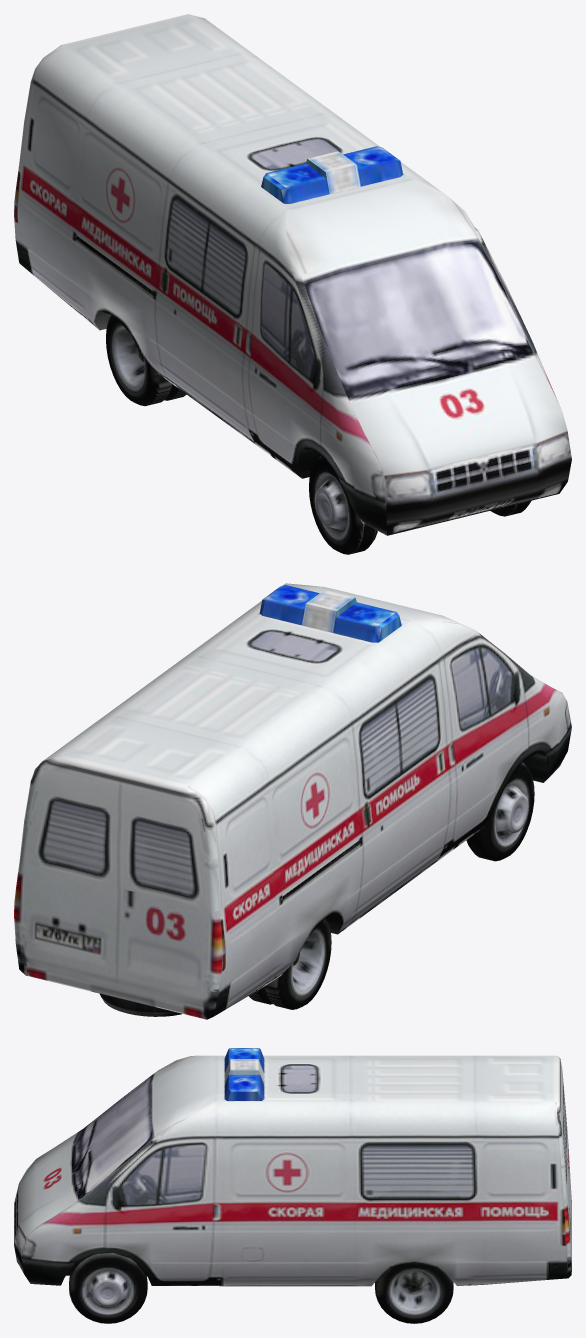
File: ambulance.glb
3 views of the same model, one above another, from view 1: azimuth 30°, elevation 25°; view 2: azimuth 150°, elevation 25°; view 3: azimuth 270°, elevation 25° (orthographic). The views are drawn at different scales.
Size of the model in its own units: 1.96 by 2.68 by 5.93.
1 material, 1 textured.
